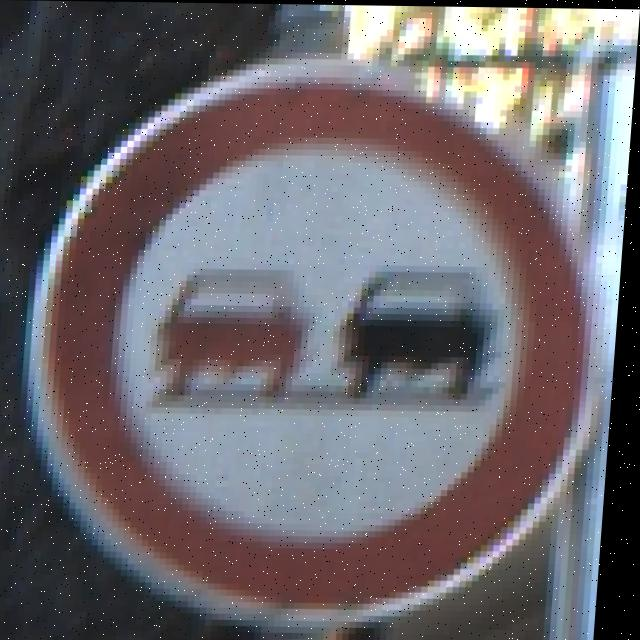no_overtaking: (29, 88, 595, 590)
